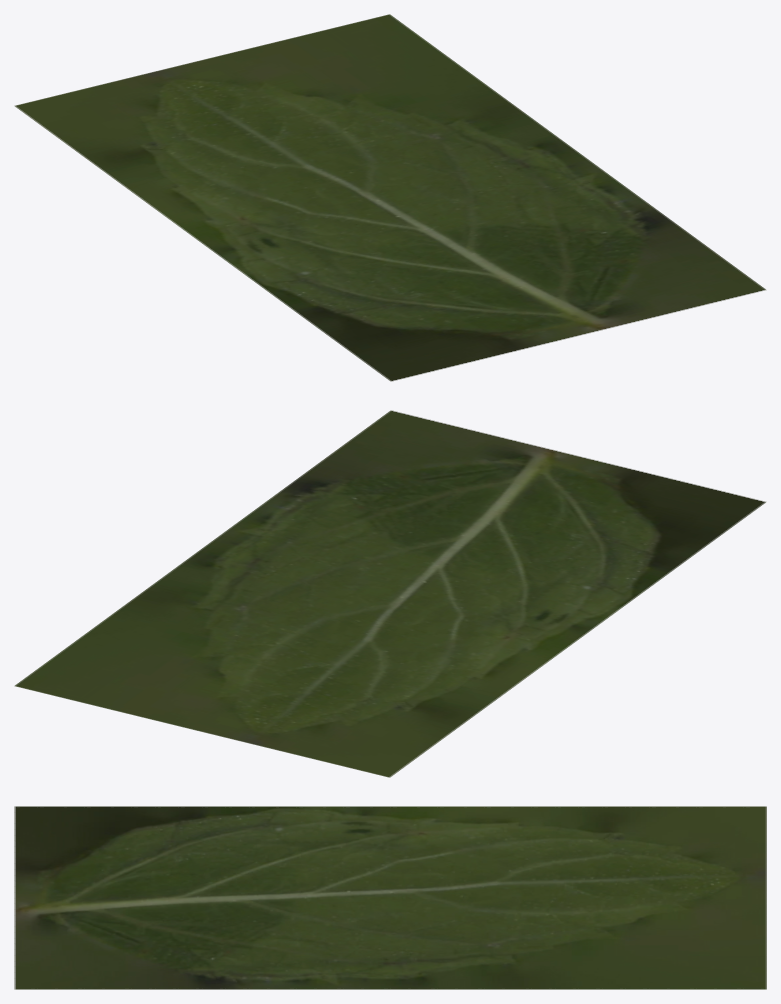
The model's file is leaf_1.gltf.
3 renders of one model, top to bottom at view 1: azimuth 30°, elevation 25°; view 2: azimuth 150°, elevation 25°; view 3: azimuth 270°, elevation 25°, orthographic.
Visible parts, largest first — view 1: Leaf_1; view 2: Leaf_1; view 3: Leaf_1.
Boxes of the visible parts, x1,y1,x2,y2 form: Leaf_1: (14, 14, 766, 381); Leaf_1: (14, 410, 766, 777); Leaf_1: (14, 806, 766, 989).
Size of what is drawn, in the model's own units: 0.198 by 0 by 0.344.
Materials: 1 (1 with a texture image).
